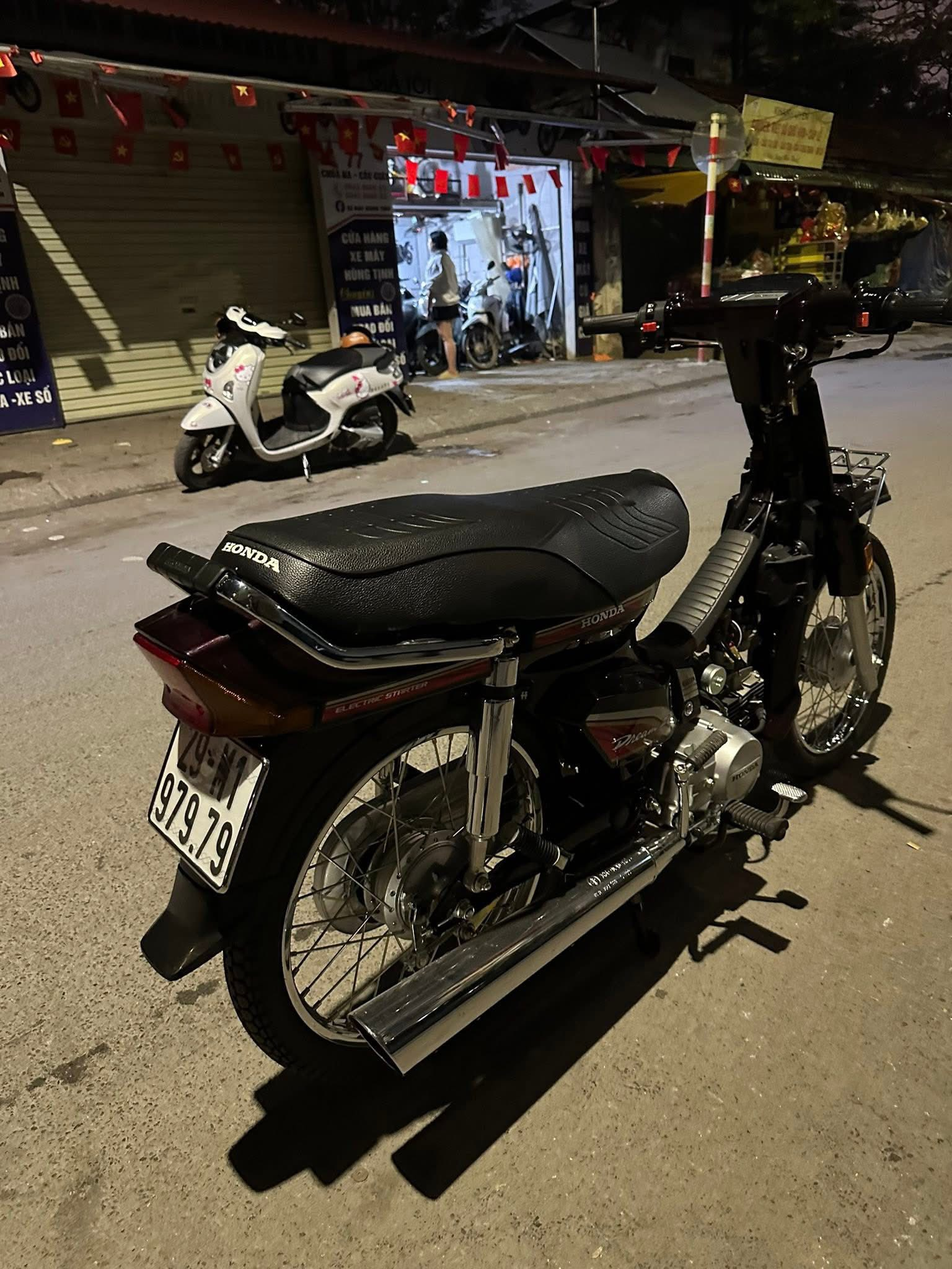bien_so: (135, 701, 279, 905)
